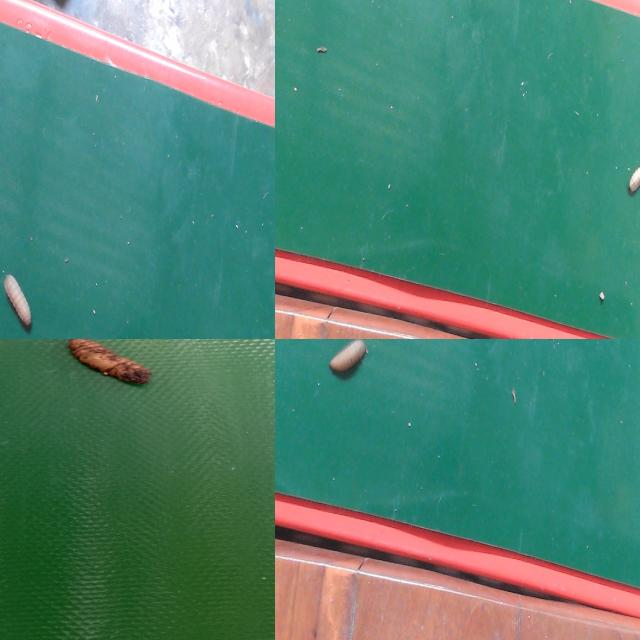Maggot: (67, 339, 154, 388), (0, 273, 33, 333), (328, 339, 369, 381), (628, 164, 640, 195)
